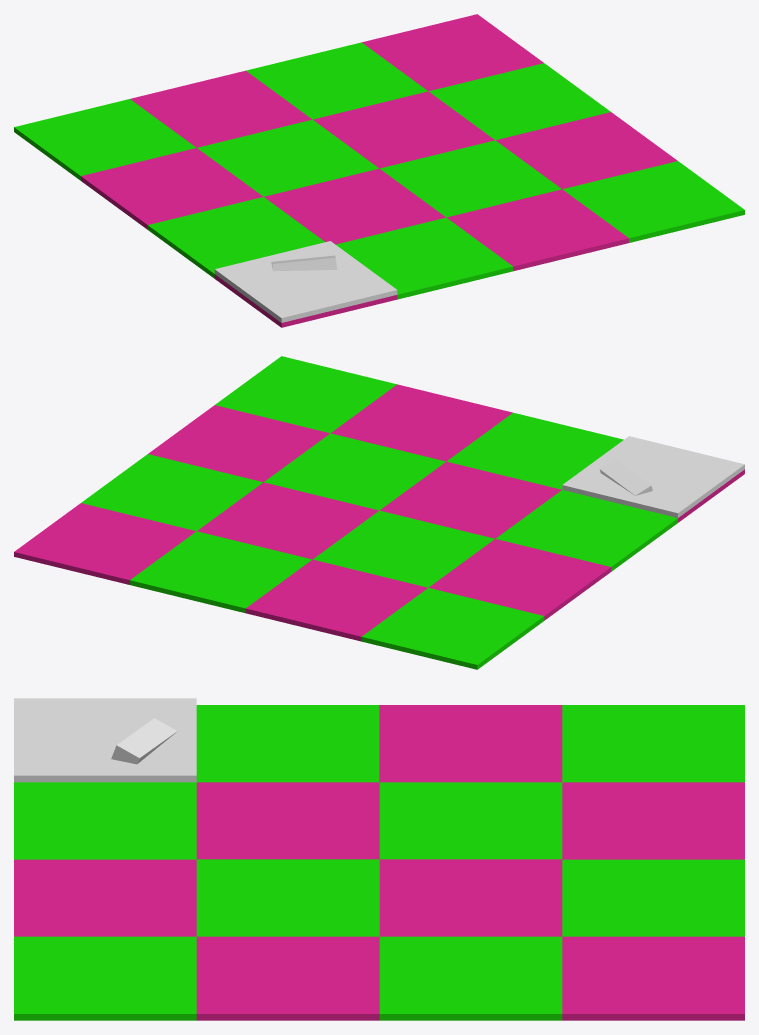
File: experiment_blah.glb
The picture shows the model from 3 angles, top to bottom: view 1: azimuth 30°, elevation 25°; view 2: azimuth 150°, elevation 25°; view 3: azimuth 270°, elevation 25°; orthographic projection. The views are drawn at different scales.
Visible parts, largest first — view 1: single room.002, single room.010, single room.008, single room.015, single room.001, (instance: cuboid) (physics: immovable cuboid).003, single room.006, single room.014, single room.012, single room.003, single room.007, single room.013 (+6 smaller); view 2: single room.015, single room.012, single room.013, single room.014, single room.008, single room.011, (instance: cuboid) (physics: immovable cuboid).003, single room.004, single room.010, single room.007, single room.002, single room.005 (+5 smaller); view 3: single room.003, single room.009, single room.010, single room.014, single room.004, single room.006, single room.005, single room.008, single room.007, single room.011, single room.001, single room.002 (+5 smaller).
Boxes of the visible parts, bbox=[...] form: single room.002: bbox=[446, 189, 628, 271]; single room.010: bbox=[562, 161, 744, 242]; single room.008: bbox=[81, 148, 263, 229]; single room.015: bbox=[14, 99, 196, 180]; single room.001: bbox=[336, 217, 513, 299]; (instance: cuboid) (physics: immovable cuboid).003: bbox=[214, 241, 397, 322]; single room.006: bbox=[313, 91, 494, 168]; single room.014: bbox=[362, 14, 543, 91]; single room.012: bbox=[130, 70, 311, 147]; single room.003: bbox=[496, 112, 677, 189]; single room.007: bbox=[197, 119, 378, 196]; single room.013: bbox=[246, 42, 427, 119]; single room.015: bbox=[361, 588, 544, 669]; single room.012: bbox=[245, 559, 427, 641]; single room.013: bbox=[130, 531, 312, 613]; single room.014: bbox=[14, 503, 196, 584]; single room.008: bbox=[429, 539, 611, 620]; single room.011: bbox=[495, 490, 677, 571]; (instance: cuboid) (physics: immovable cuboid).003: bbox=[562, 436, 744, 517]; single room.004: bbox=[264, 433, 445, 510]; single room.010: bbox=[215, 356, 396, 433]; single room.007: bbox=[313, 510, 494, 587]; single room.002: bbox=[331, 384, 512, 461]; single room.005: bbox=[380, 461, 561, 538]; single room.003: bbox=[196, 936, 379, 1020]; single room.009: bbox=[379, 936, 562, 1020]; single room.010: bbox=[14, 936, 196, 1020]; single room.014: bbox=[562, 936, 744, 1020]; single room.004: bbox=[196, 859, 379, 936]; single room.006: bbox=[379, 859, 562, 936]; single room.005: bbox=[196, 782, 379, 859]; single room.008: bbox=[379, 705, 562, 782]; single room.007: bbox=[379, 782, 562, 859]; single room.011: bbox=[196, 705, 379, 782]; single room.001: bbox=[14, 782, 196, 859]; single room.002: bbox=[14, 859, 196, 936].
Size of the model in its own units: 100 by 4.97 by 100.
